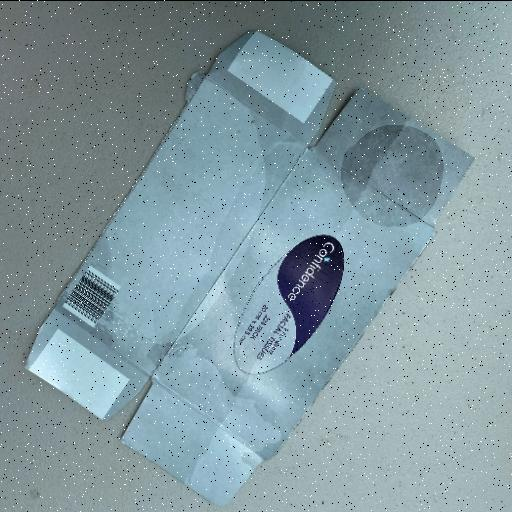Cardboard: (24, 27, 478, 507)
